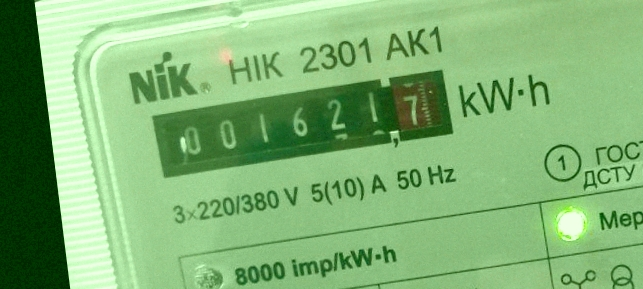0: (214, 114, 240, 153), (179, 121, 203, 157)
1: (362, 86, 381, 125), (253, 108, 272, 146)
2: (323, 95, 349, 133)
6: (287, 103, 310, 139)
7: (398, 90, 423, 129)
screen: (145, 65, 460, 184)
